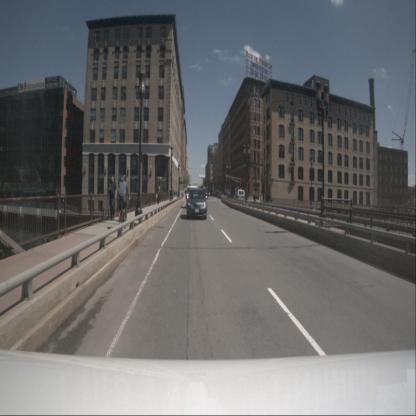human-pedestrian-adult: (108, 175, 117, 221), (156, 186, 160, 206), (178, 188, 181, 198), (175, 188, 178, 198), (182, 188, 184, 200), (174, 188, 176, 198)
vehicle-bicycle: (116, 174, 130, 227)
vehicle-car: (186, 188, 207, 219), (186, 185, 198, 207), (234, 190, 245, 204), (212, 190, 218, 197), (218, 192, 223, 200), (226, 190, 231, 198), (206, 189, 210, 197)
